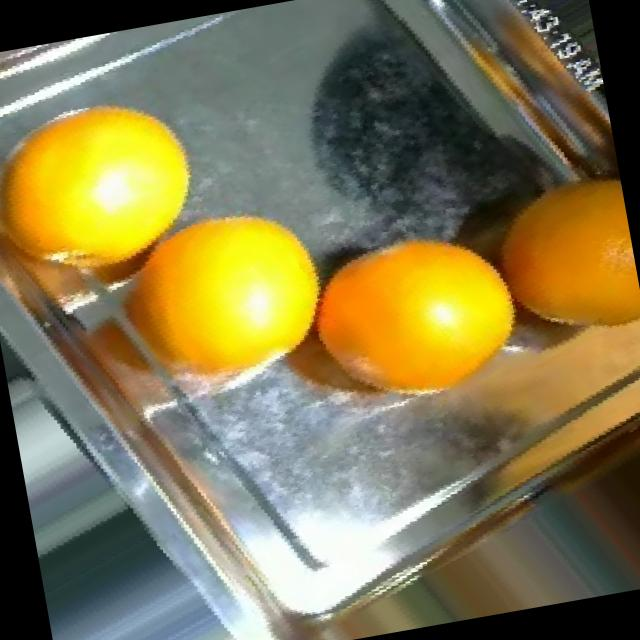Fruit: (110, 177, 358, 406), (0, 62, 227, 288)
